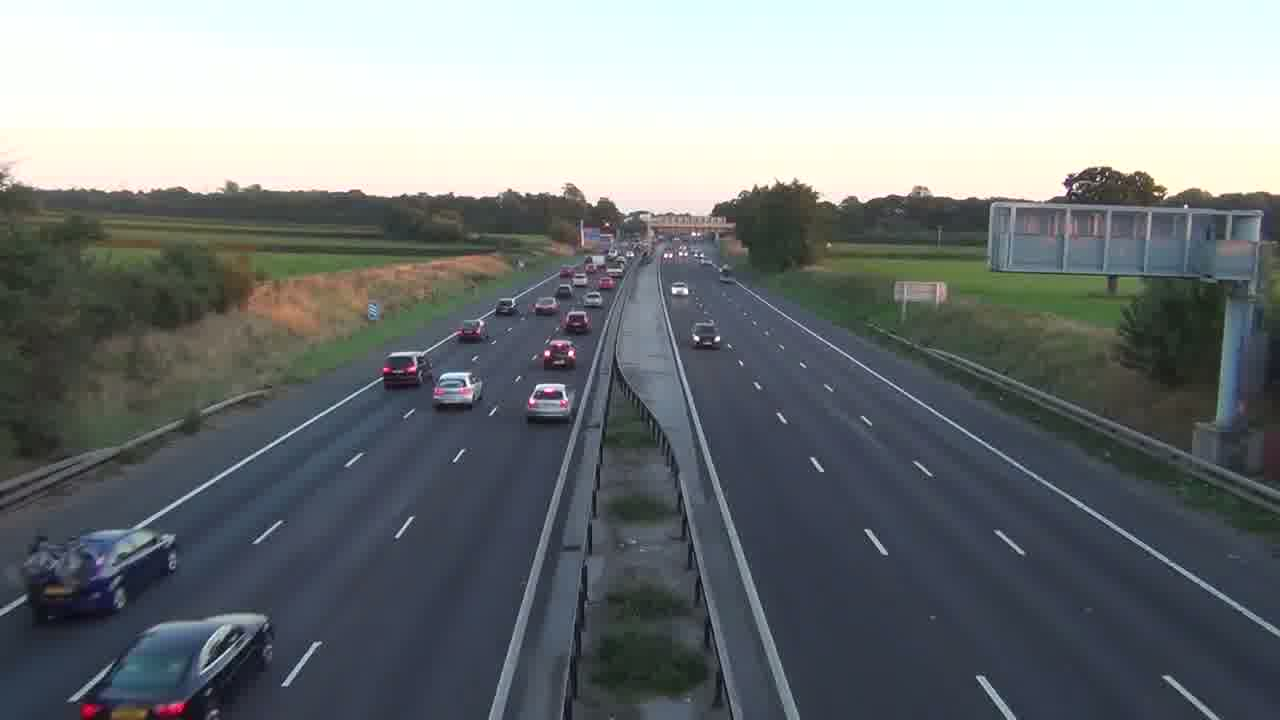car: (68, 611, 276, 718), (432, 370, 484, 409), (525, 382, 574, 423), (542, 338, 577, 368), (689, 320, 721, 350), (561, 310, 592, 335), (457, 319, 485, 342), (532, 296, 560, 316), (671, 281, 690, 296)
truck: (21, 526, 180, 624)
